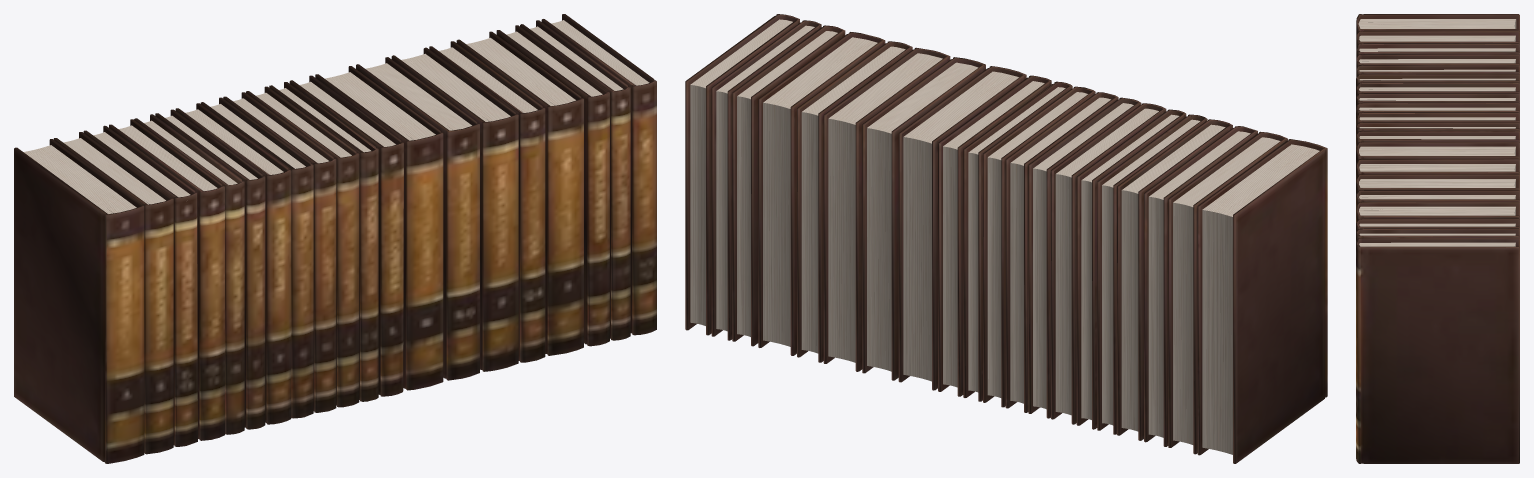
File: aca-books.glb
3 views of the same model, side by side, from view 1: azimuth 30°, elevation 25°; view 2: azimuth 150°, elevation 25°; view 3: azimuth 270°, elevation 25° (orthographic). The views are drawn at different scales.
Visible parts, largest first — view 1: book_encyclopedia_set_01_book01, book_encyclopedia_set_01_book13, book_encyclopedia_set_01_book15, book_encyclopedia_set_01_book17, book_encyclopedia_set_01_book14, book_encyclopedia_set_01_book02, book_encyclopedia_set_01_book16, book_encyclopedia_set_01_book04, book_encyclopedia_set_01_book20, book_encyclopedia_set_01_book07, book_encyclopedia_set_01_book18, book_encyclopedia_set_01_book12 (+8 smaller); view 2: book_encyclopedia_set_01_book01, book_encyclopedia_set_01_book13, book_encyclopedia_set_01_book15, book_encyclopedia_set_01_book17, book_encyclopedia_set_01_book14, book_encyclopedia_set_01_book02, book_encyclopedia_set_01_book04, book_encyclopedia_set_01_book16, book_encyclopedia_set_01_book18, book_encyclopedia_set_01_book20, book_encyclopedia_set_01_book07, book_encyclopedia_set_01_book12 (+8 smaller); view 3: book_encyclopedia_set_01_book20, book_encyclopedia_set_01_book13, book_encyclopedia_set_01_book01, book_encyclopedia_set_01_book17, book_encyclopedia_set_01_book15, book_encyclopedia_set_01_book14, book_encyclopedia_set_01_book02, book_encyclopedia_set_01_book16, book_encyclopedia_set_01_book03, book_encyclopedia_set_01_book07, book_encyclopedia_set_01_book12, book_encyclopedia_set_01_book04 (+8 smaller).
Part boxes in pixels (box(x1,y1,x2,y2)): book_encyclopedia_set_01_book01: box(14, 139, 144, 463); book_encyclopedia_set_01_book13: box(315, 66, 443, 390); book_encyclopedia_set_01_book15: box(391, 47, 518, 371); book_encyclopedia_set_01_book17: box(456, 31, 583, 355); book_encyclopedia_set_01_book14: box(356, 57, 479, 380); book_encyclopedia_set_01_book02: box(53, 132, 173, 454); book_encyclopedia_set_01_book16: box(429, 41, 545, 362); book_encyclopedia_set_01_book04: box(109, 119, 224, 440); book_encyclopedia_set_01_book20: box(541, 14, 656, 335); book_encyclopedia_set_01_book07: box(175, 103, 291, 424); book_encyclopedia_set_01_book18: box(496, 25, 609, 346); book_encyclopedia_set_01_book12: box(289, 75, 403, 396); book_encyclopedia_set_01_book01: box(1197, 139, 1327, 463); book_encyclopedia_set_01_book13: box(898, 66, 1026, 390); book_encyclopedia_set_01_book15: box(823, 47, 950, 371); book_encyclopedia_set_01_book17: box(758, 32, 885, 355); book_encyclopedia_set_01_book14: box(862, 57, 985, 380); book_encyclopedia_set_01_book02: box(1168, 131, 1287, 454); book_encyclopedia_set_01_book04: box(1117, 119, 1232, 440); book_encyclopedia_set_01_book16: box(797, 41, 912, 362); book_encyclopedia_set_01_book18: box(732, 25, 845, 346); book_encyclopedia_set_01_book20: box(685, 14, 799, 335); book_encyclopedia_set_01_book07: box(1051, 103, 1166, 424); book_encyclopedia_set_01_book12: box(938, 75, 1051, 396); book_encyclopedia_set_01_book20: box(1356, 238, 1519, 463); book_encyclopedia_set_01_book13: box(1356, 142, 1519, 181); book_encyclopedia_set_01_book01: box(1356, 14, 1519, 34); book_encyclopedia_set_01_book17: box(1356, 202, 1519, 221); book_encyclopedia_set_01_book15: box(1356, 174, 1519, 196); book_encyclopedia_set_01_book14: box(1356, 159, 1519, 178); book_encyclopedia_set_01_book02: box(1356, 30, 1519, 57); book_encyclopedia_set_01_book16: box(1356, 190, 1519, 221); book_encyclopedia_set_01_book03: box(1356, 43, 1519, 56); book_encyclopedia_set_01_book07: box(1356, 82, 1519, 96); book_encyclopedia_set_01_book12: box(1356, 131, 1519, 146); book_encyclopedia_set_01_book04: box(1356, 54, 1519, 67).
Bounding box in the file's own units: 0.5513 × 0.2374 × 0.1631.
2 materials, 2 textured.
